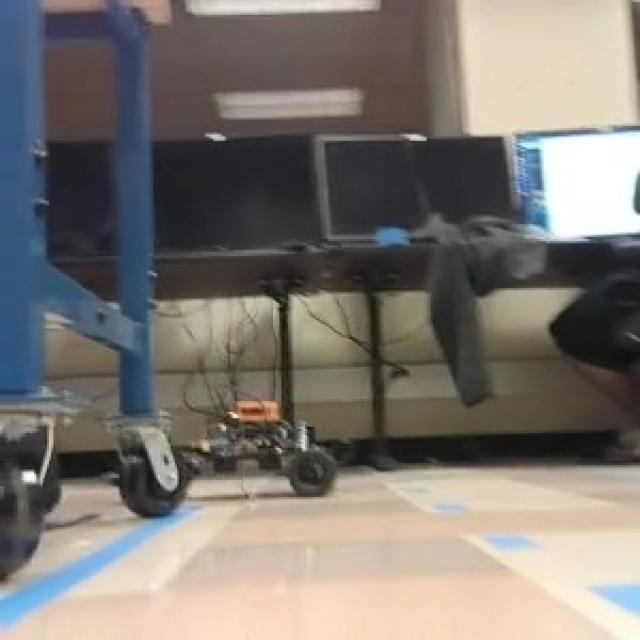obstacle: (174, 404, 336, 496)
